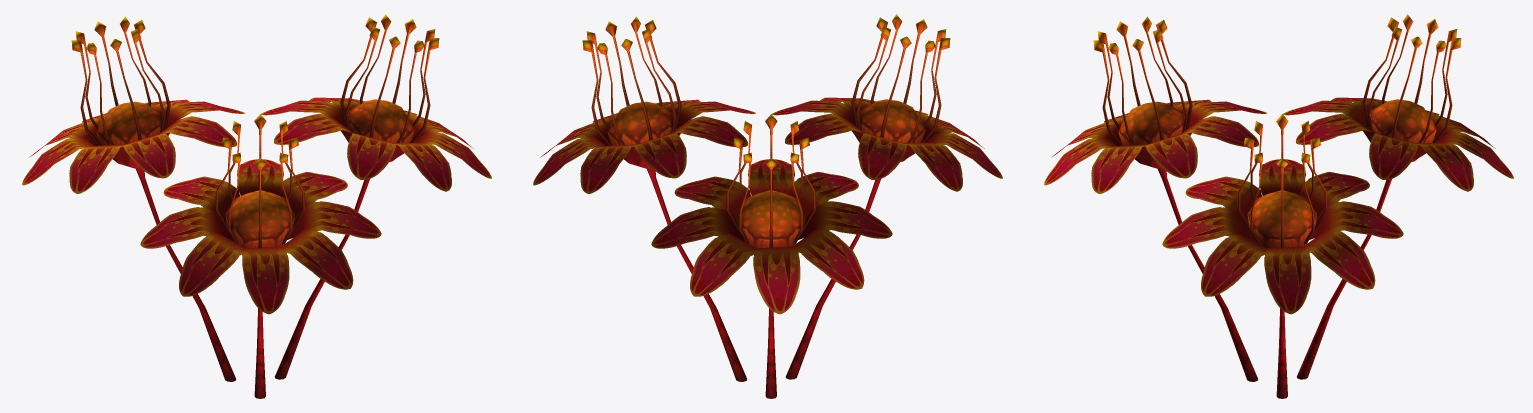
Rendered from Red_Flower_01b.FBX.
3 renders of one model, left to right at view 1: azimuth 30°, elevation 25°; view 2: azimuth 150°, elevation 25°; view 3: azimuth 270°, elevation 25°, orthographic.
Visible parts, largest first — view 1: Red_Flower_01b; view 2: Red_Flower_01b; view 3: Red_Flower_01b.
Part boxes in pixels (x1,y1,x2,y2): Red_Flower_01b: (22, 14, 491, 398); Red_Flower_01b: (533, 14, 1002, 398); Red_Flower_01b: (1044, 14, 1513, 398).
Bounding box in the file's own units: 90.4 × 72.05 × 96.08.
